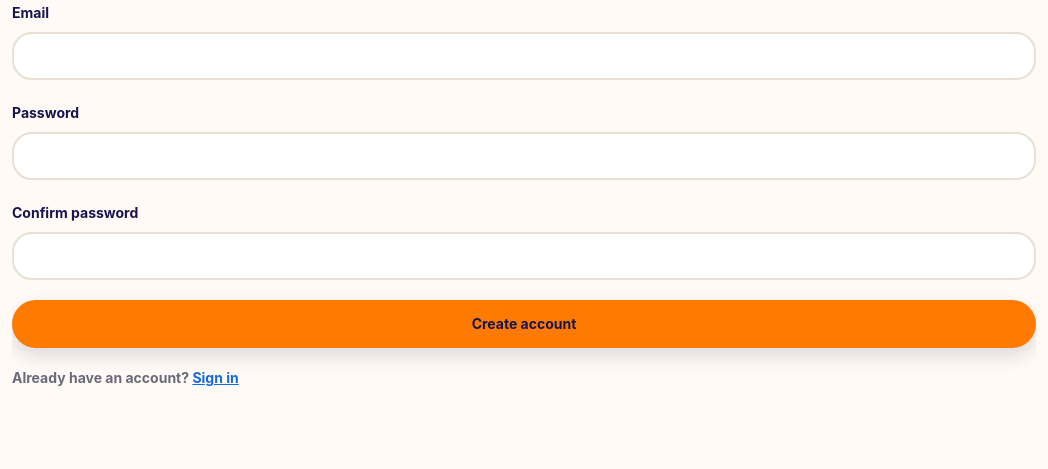
Scenario: AuthForm › does not submit signup when the password confirmation does not match
This screenshot has width=1048, height=469.
In the field labelled "Email": (524, 56) [12,32,1036,80], type "player@example.com"
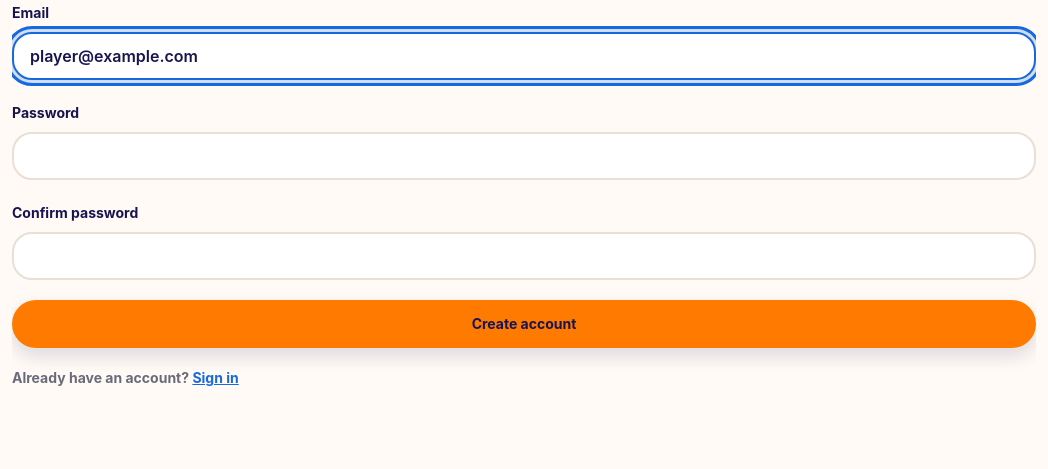
In the password field labelled "Password": (524, 156) [12,132,1036,180], type "password123"
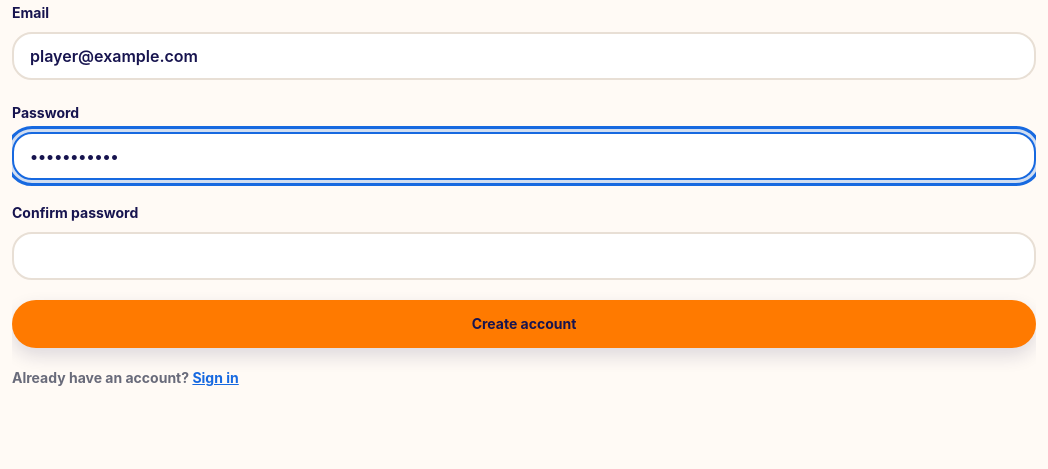
In the password field labelled "Confirm password": (524, 256) [12,232,1036,280], type "password456"
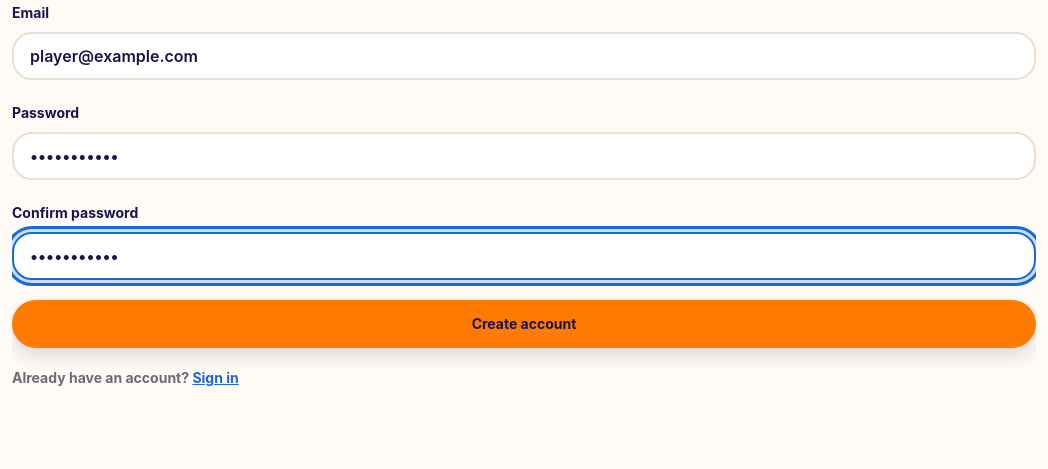
Click the button "Create account": (524, 324) [12,300,1036,348]
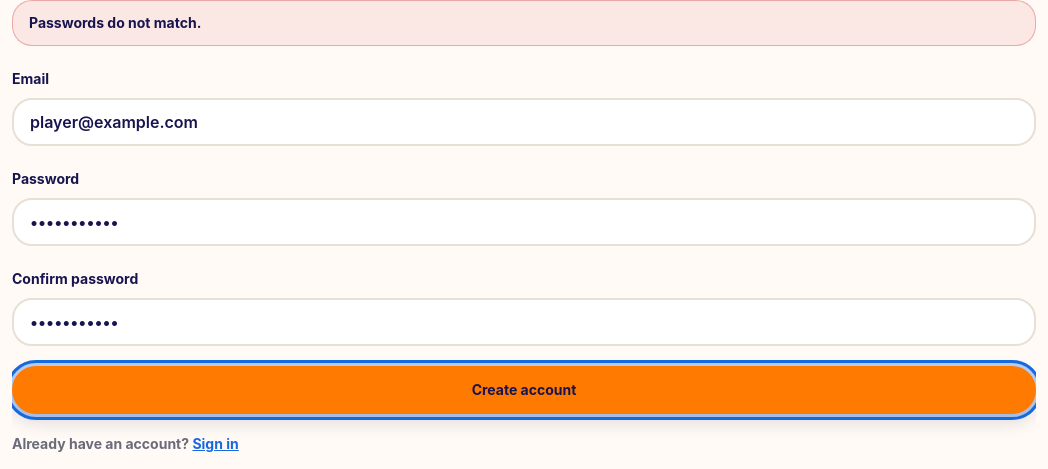
Check: the text "Passwords do not match." is shown, box [12,0,1036,46]
